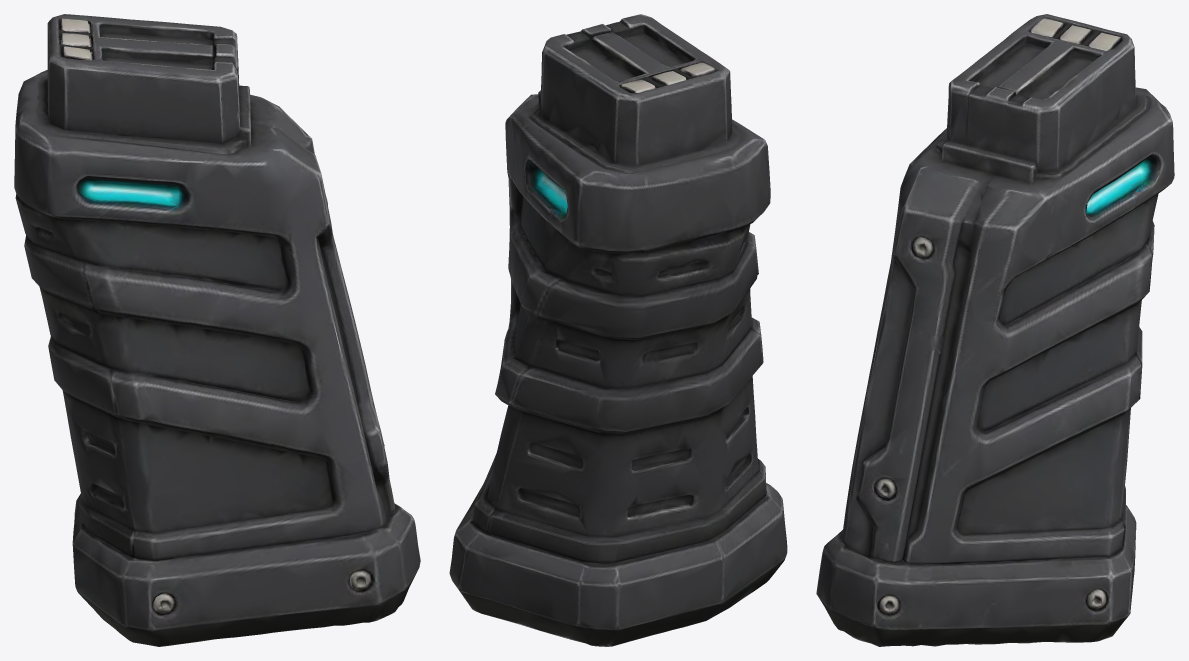
The model's file is fp_mag.glb.
3 renders of one model, left to right at view 1: azimuth 30°, elevation 25°; view 2: azimuth 150°, elevation 25°; view 3: azimuth 270°, elevation 25°, orthographic. The views are drawn at different scales.
Parts seen in each view (by area): view 1: tripo_node_995f16f9-0aff-4eba-947f-4fba68214020; view 2: tripo_node_995f16f9-0aff-4eba-947f-4fba68214020; view 3: tripo_node_995f16f9-0aff-4eba-947f-4fba68214020.
Boxes of the visible parts, x1,y1,x2,y2 form: tripo_node_995f16f9-0aff-4eba-947f-4fba68214020: (14,14,420,646); tripo_node_995f16f9-0aff-4eba-947f-4fba68214020: (449,14,787,646); tripo_node_995f16f9-0aff-4eba-947f-4fba68214020: (816,14,1174,646).
Size of the model in its own units: 0.583 by 1 by 0.6134.
Materials: 1 (1 with a texture image).
